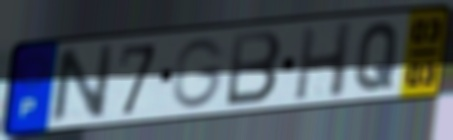7: (117, 42, 160, 117)
B: (223, 28, 285, 110)
G: (171, 35, 229, 111)
H: (292, 19, 356, 103)
N: (48, 41, 117, 128)
Q: (352, 19, 403, 94)
